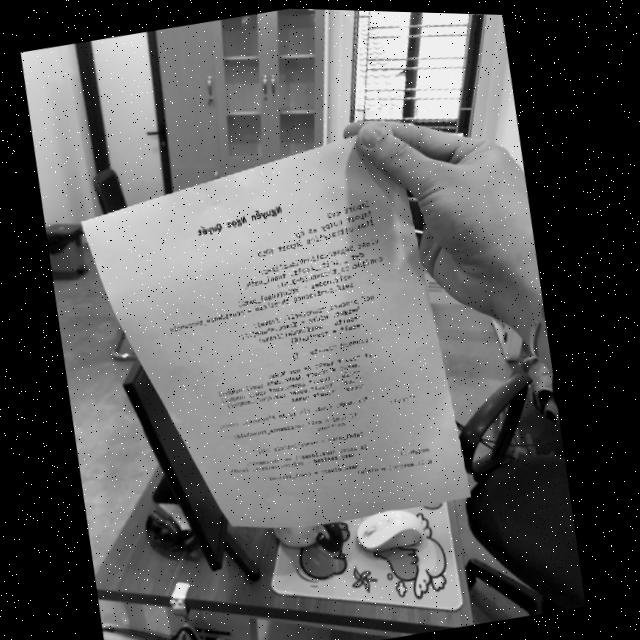document: (82, 124, 470, 529)
